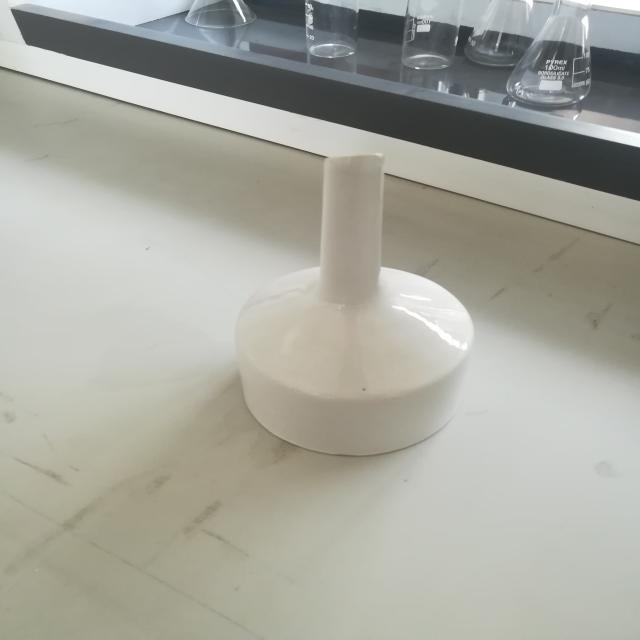Buchner_Funnel: (190, 94, 502, 478)
